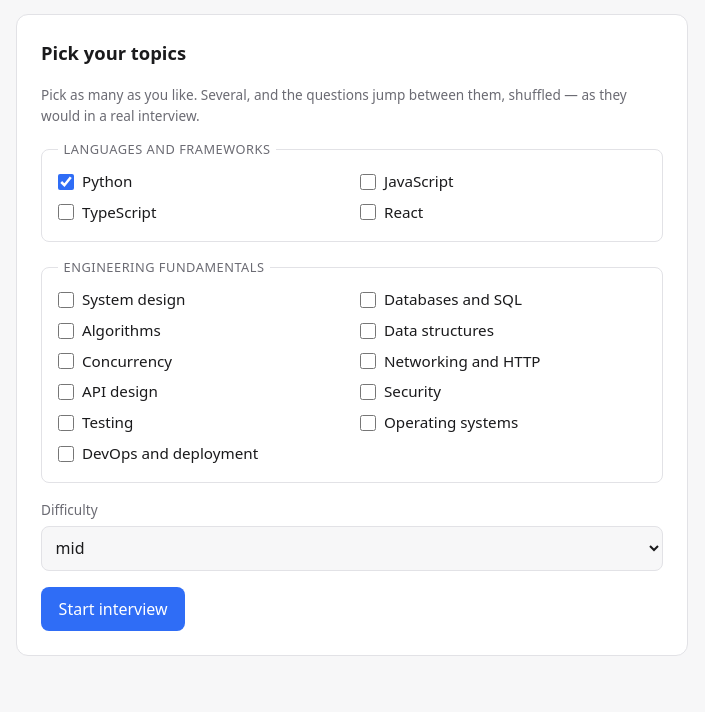
Scenario: errors › shows the backend message when the model is unavailable
(page scrolled)
Click the button "Start interview": (113,609) [41,587,185,631]
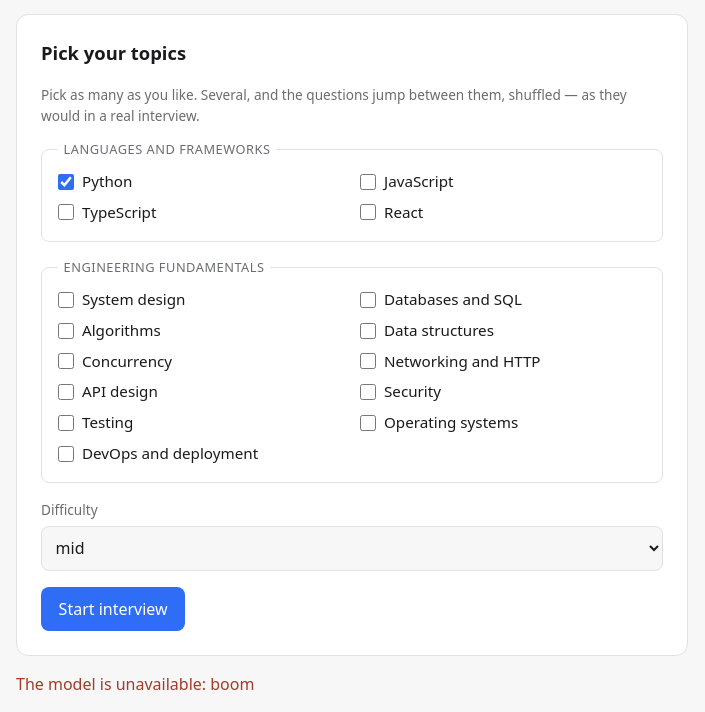
Now the message reads "The model is unavailable: boom", box [16,673,254,695]
